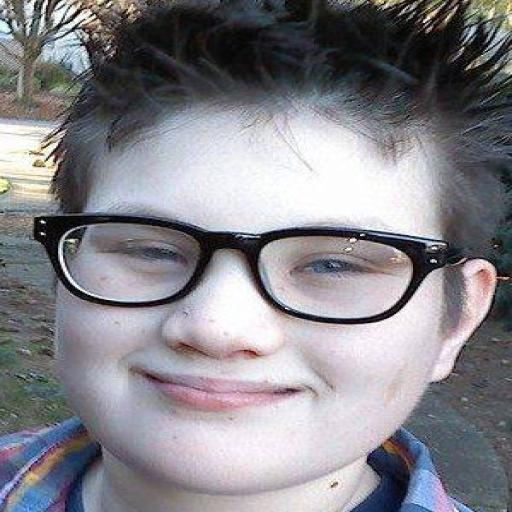Autism: (56, 0, 512, 510)
